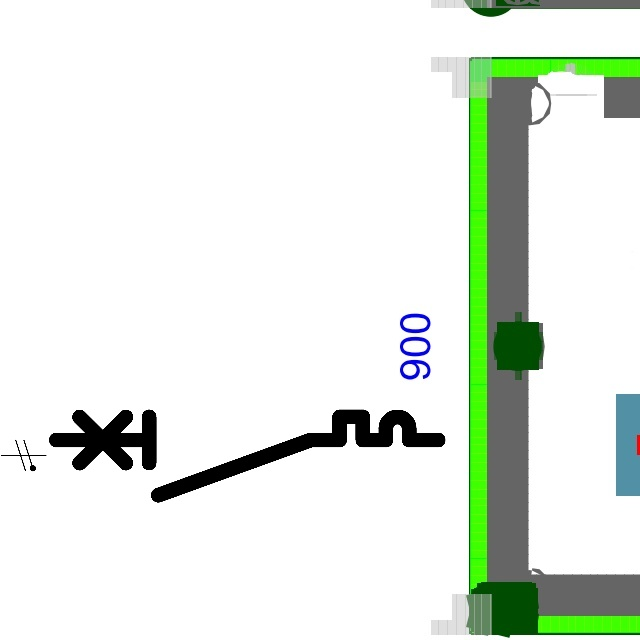interruptor_termomagnetico: (46, 407, 448, 505)
